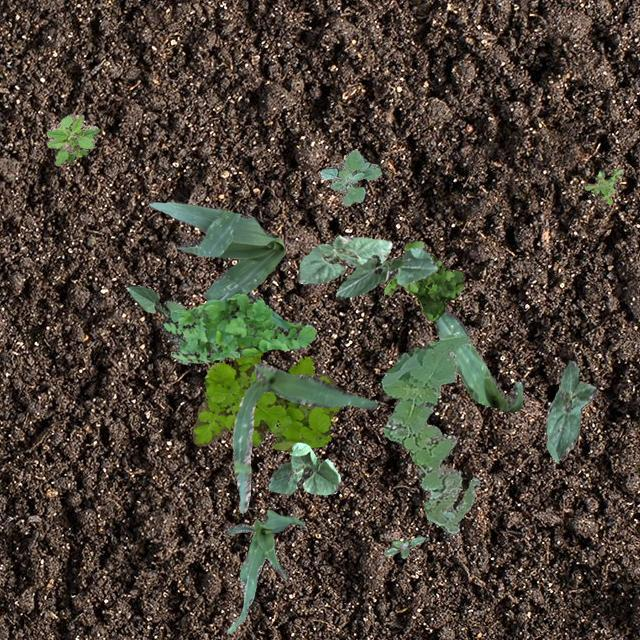crop: (232, 362, 376, 512), (148, 200, 282, 300), (226, 508, 304, 632), (434, 308, 522, 411), (544, 359, 596, 462), (334, 248, 436, 298), (296, 234, 391, 284), (268, 442, 340, 494), (126, 284, 186, 318)
weed: (380, 333, 480, 534), (192, 350, 338, 450), (158, 292, 316, 363), (384, 240, 464, 322), (318, 148, 381, 204), (46, 112, 98, 164), (584, 168, 622, 202), (384, 534, 424, 556)
